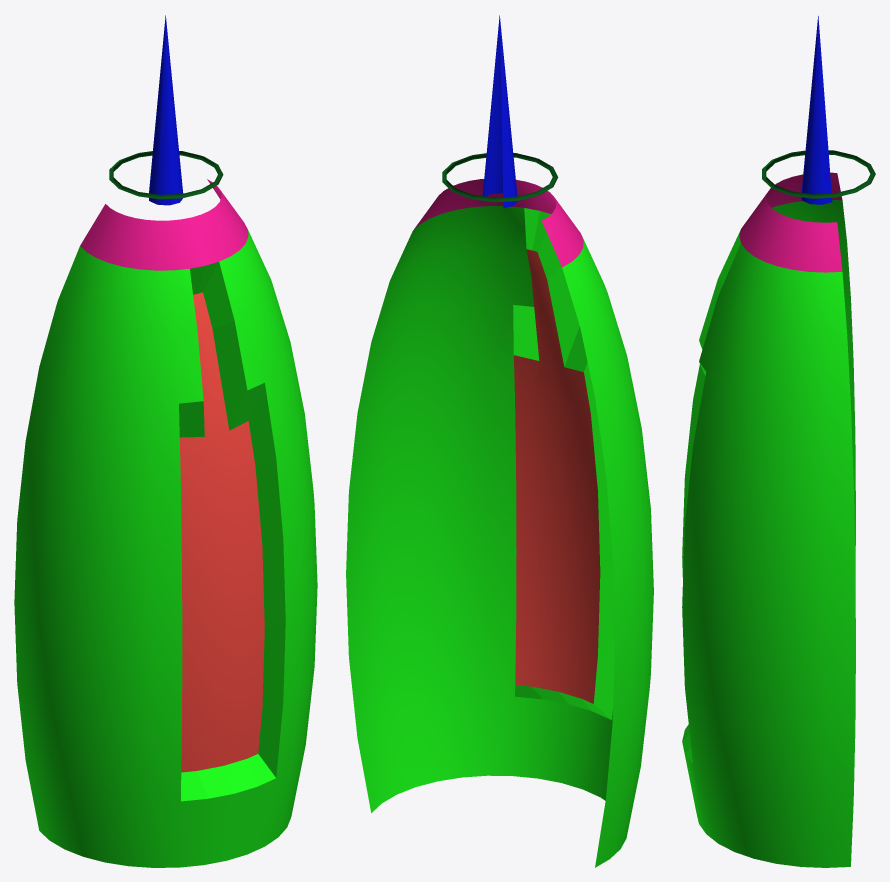
The model's file is Progeny Communication Tower.FBX.
3 renders of one model, left to right at view 1: azimuth 30°, elevation 25°; view 2: azimuth 150°, elevation 25°; view 3: azimuth 270°, elevation 25°, orthographic.
Visible parts, largest first — view 1: Sphere001, Cone001, Torus001; view 2: Sphere001, Cone001, Torus001; view 3: Sphere001, Cone001, Torus001.
Boxes of the visible parts, x1,y1,x2,y2 form: Sphere001: (14,179,317,867); Cone001: (149,15,183,205); Torus001: (109,151,223,199); Sphere001: (346,179,653,867); Cone001: (482,15,517,208); Torus001: (442,153,558,202); Sphere001: (682,172,855,867); Cone001: (801,16,832,204); Torus001: (762,150,875,198).
Bounding box in the file's own units: 15.37 × 43.61 × 9.58.
